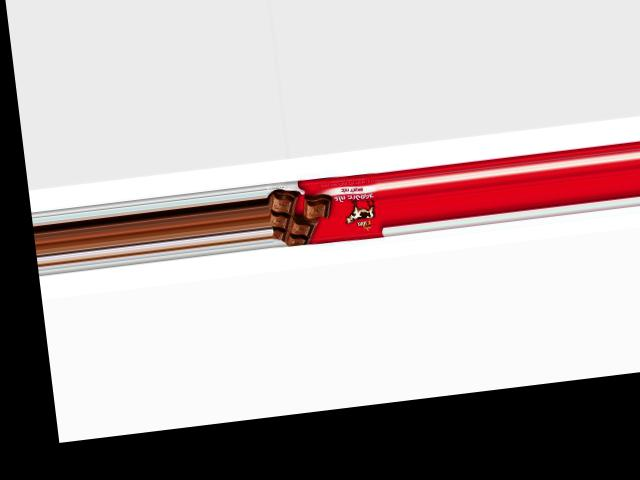chocolate: (266, 170, 385, 248)
